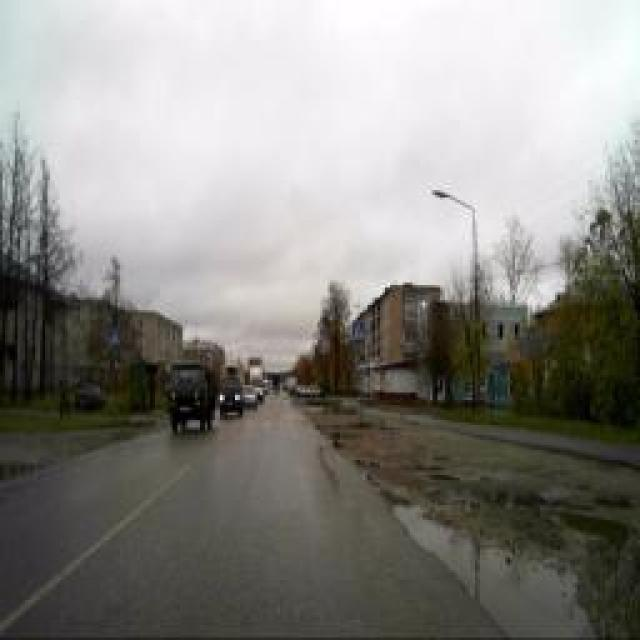sign: (351, 320, 364, 342), (108, 329, 120, 349)
